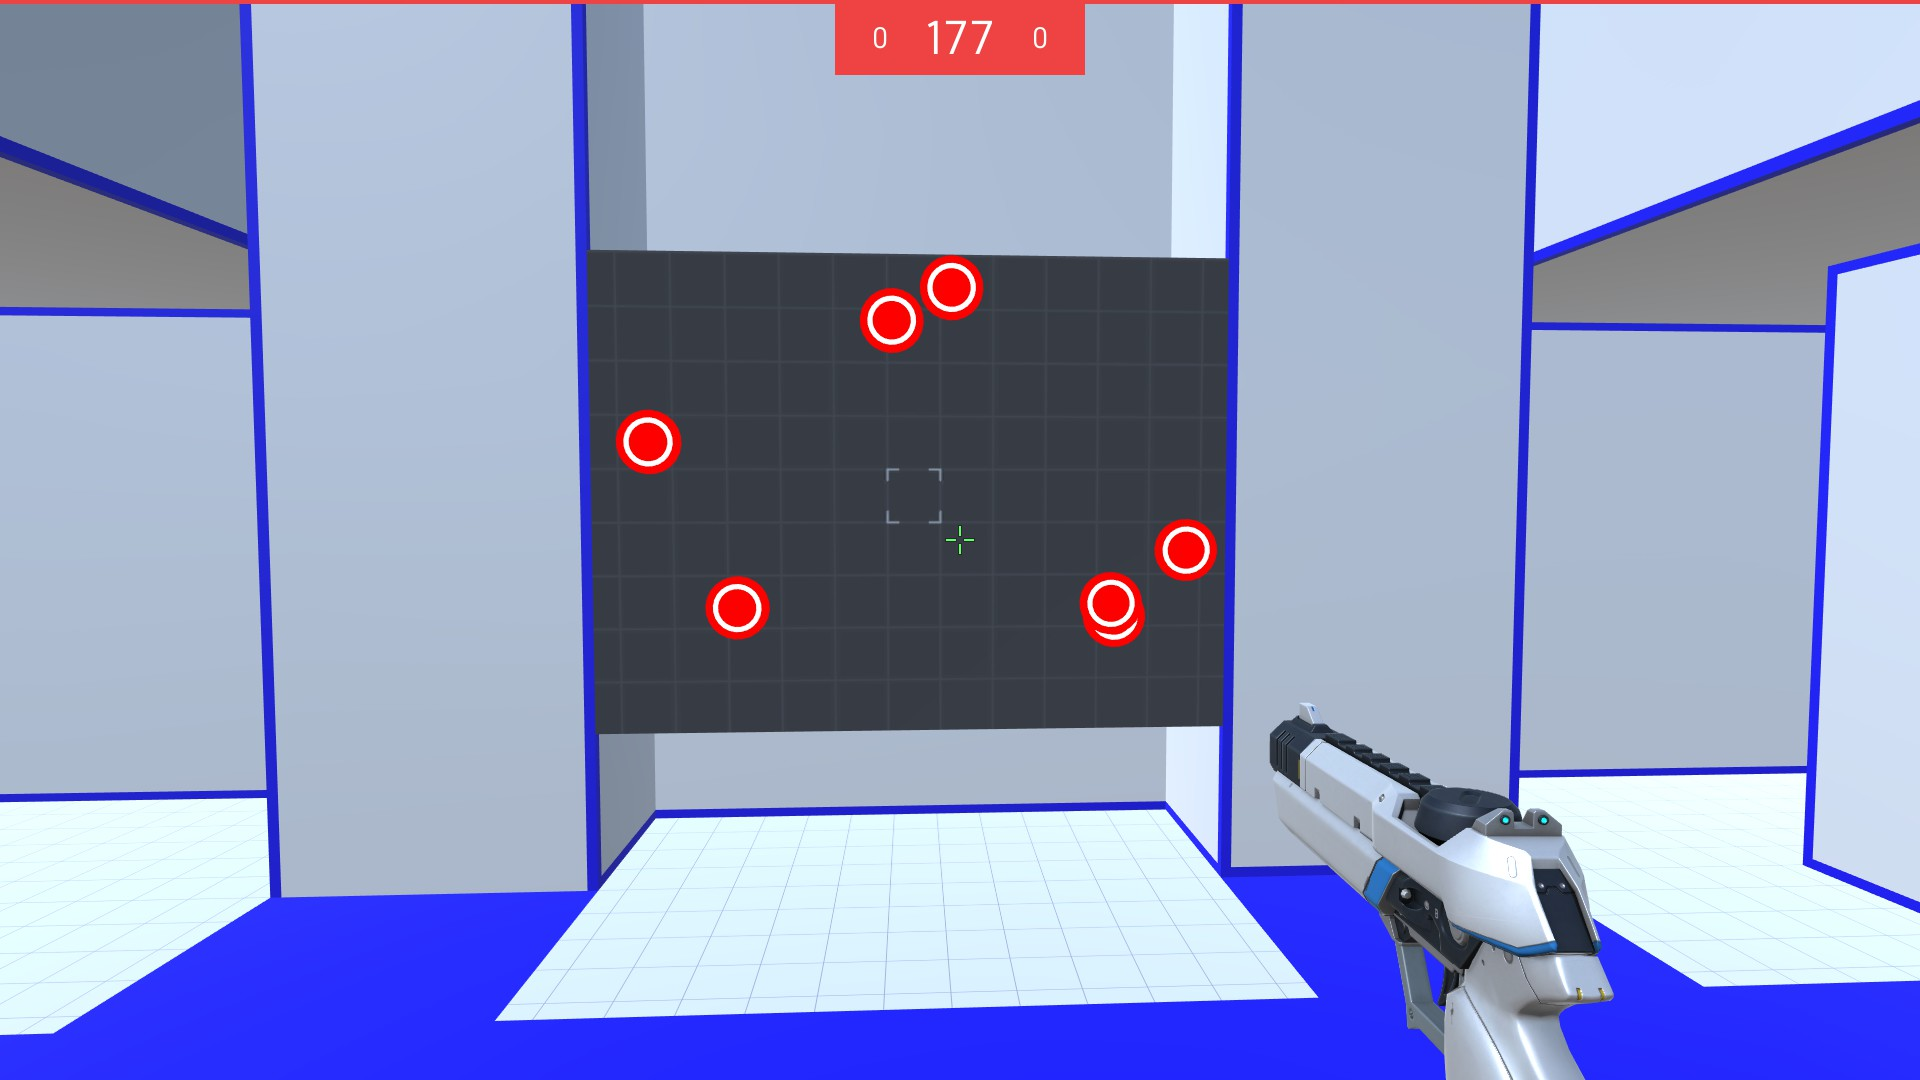target: (920, 255, 986, 324), (703, 575, 771, 641), (612, 413, 682, 475), (855, 286, 920, 349), (1073, 568, 1142, 628), (1155, 520, 1215, 582), (1087, 622, 1146, 647)
